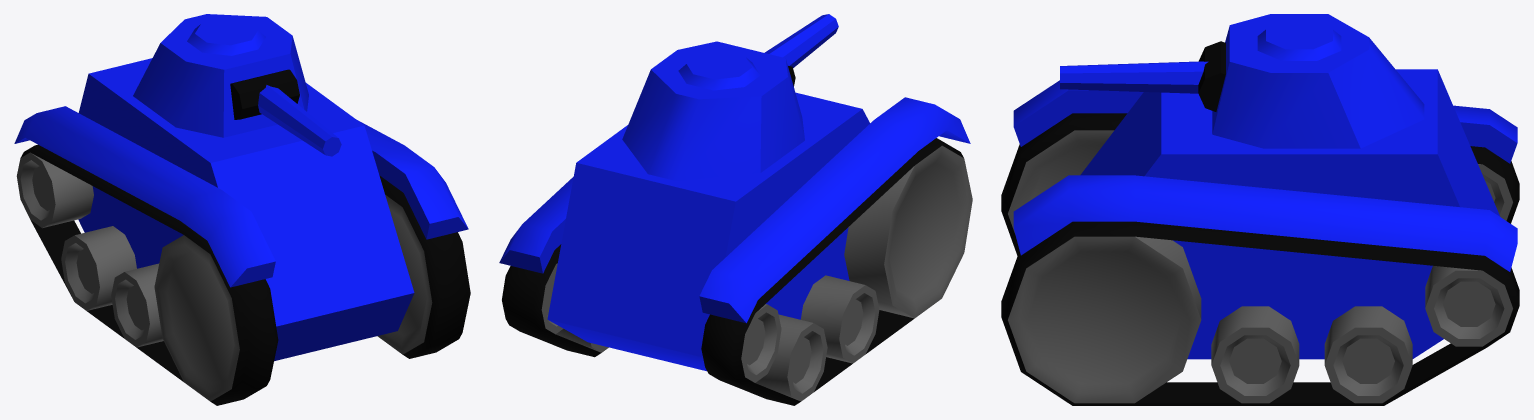
The model's file is Prometheus.fbx.
The picture shows the model from 3 angles, left to right: view 1: azimuth 30°, elevation 25°; view 2: azimuth 150°, elevation 25°; view 3: azimuth 270°, elevation 25°; orthographic projection. The views are drawn at different scales.
Visible parts, largest first — view 1: Würfel, Mudguard, Tracks, Front_3, Zylinder, Front_1, Front_2, Front, Zylinder_3, Zylinder_1, Zylinder_2; view 2: Würfel, Mudguard, Zylinder, Front_3, Tracks, Front, Front_1, Front_2, Zylinder_1, Zylinder_3; view 3: Würfel, Front_3, Mudguard, Zylinder, Tracks, Front, Front_1, Front_2, Zylinder_3, Zylinder_1, Zylinder_2.
Boxes of the visible parts, left/top/right/bottom form: Würfel: left=78, top=58, right=414, bottom=361; Mudguard: left=14, top=106, right=468, bottom=287; Tracks: left=20, top=144, right=470, bottom=405; Front_3: left=154, top=195, right=432, bottom=401; Zylinder: left=133, top=14, right=308, bottom=137; Front_1: left=61, top=226, right=136, bottom=310; Front_2: left=16, top=152, right=93, bottom=228; Front: left=111, top=263, right=163, bottom=347; Zylinder_3: left=258, top=85, right=341, bottom=156; Zylinder_1: left=187, top=18, right=265, bottom=55; Zylinder_2: left=230, top=69, right=299, bottom=119; Würfel: left=547, top=92, right=870, bottom=371; Mudguard: left=499, top=97, right=970, bottom=323; Zylinder: left=622, top=41, right=804, bottom=180; Front_3: left=844, top=145, right=972, bottom=318; Tracks: left=502, top=138, right=963, bottom=405; Front: left=800, top=275, right=879, bottom=363; Front_1: left=556, top=314, right=827, bottom=401; Front_2: left=541, top=263, right=781, bottom=382; Zylinder_1: left=678, top=51, right=760, bottom=90; Zylinder_3: left=764, top=14, right=838, bottom=67; Würfel: left=1080, top=69, right=1500, bottom=359; Front_3: left=1008, top=130, right=1201, bottom=403; Mudguard: left=1013, top=80, right=1517, bottom=271; Zylinder: left=1212, top=14, right=1424, bottom=148; Tracks: left=1001, top=113, right=1519, bottom=405; Front: left=1211, top=306, right=1299, bottom=403; Front_1: left=1324, top=306, right=1412, bottom=403; Front_2: left=1425, top=164, right=1512, bottom=346; Zylinder_3: left=1060, top=61, right=1208, bottom=93; Zylinder_1: left=1257, top=21, right=1341, bottom=60; Zylinder_2: left=1198, top=41, right=1225, bottom=111.
Size of the model in its own units: 248 by 272 by 413.
